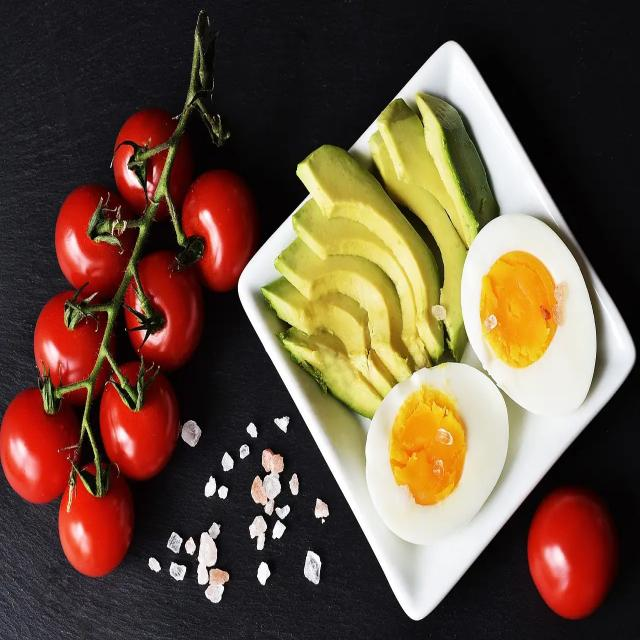aguacate: (267, 98, 497, 400)
huevos: (456, 208, 603, 425), (361, 364, 515, 550)
